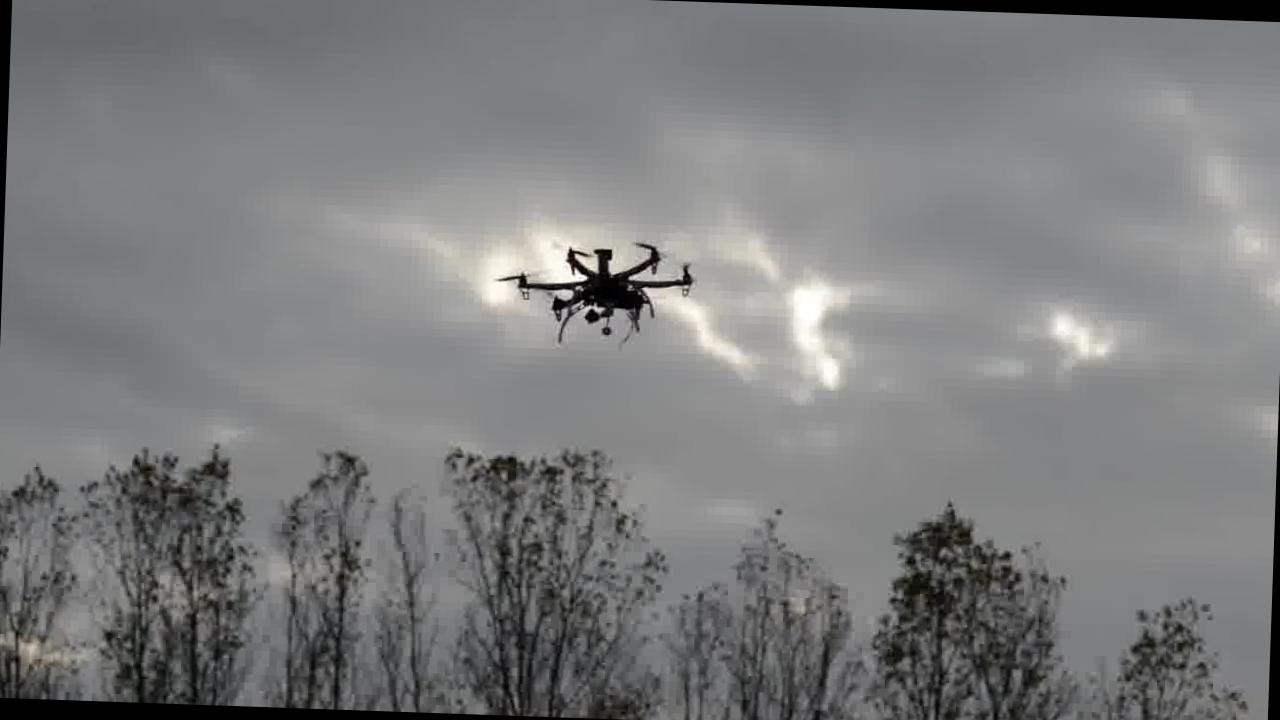drone: (498, 230, 696, 347)
